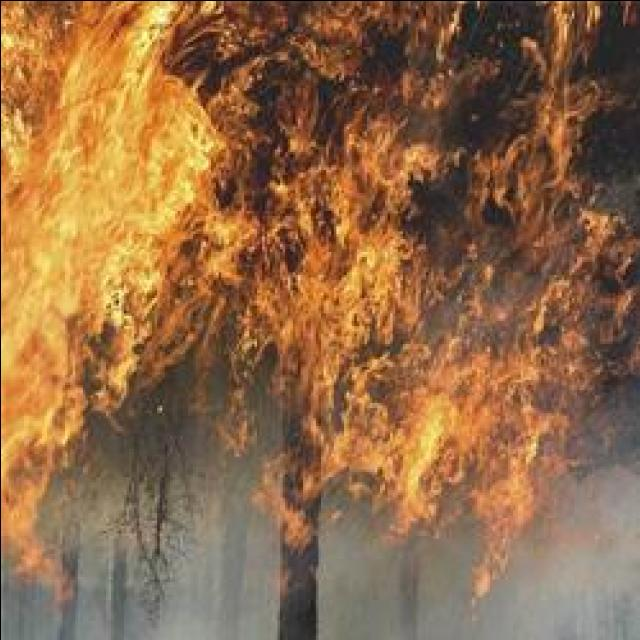fire: (0, 0, 91, 307), (62, 98, 200, 260), (1, 276, 68, 484), (76, 0, 158, 110), (319, 242, 401, 332), (284, 268, 352, 366), (391, 393, 457, 493), (100, 210, 164, 310), (336, 125, 404, 211), (442, 355, 502, 439)
smoke: (536, 520, 640, 638), (184, 528, 274, 634)
